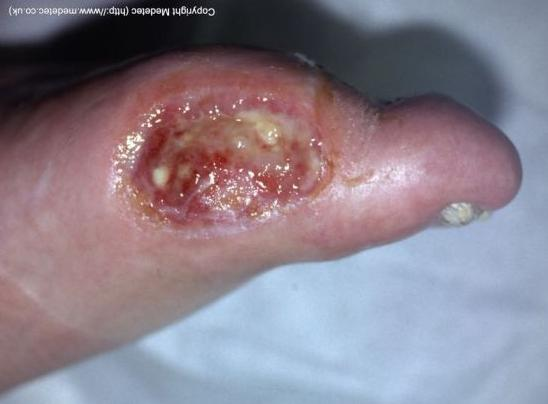NonPU: (78, 62, 405, 257)
